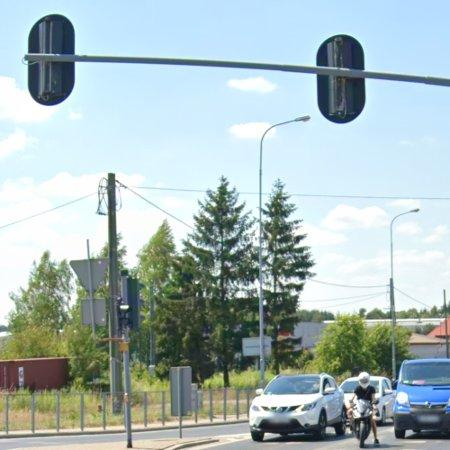traffic lights: (317, 35, 364, 69)
